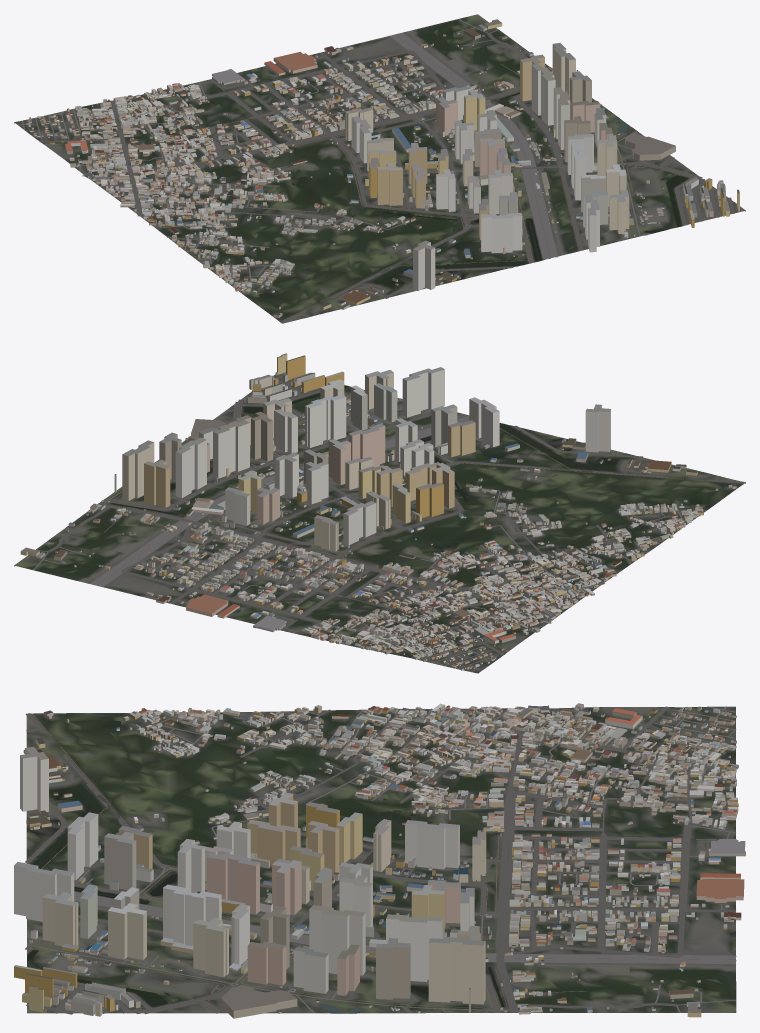
3 views of the same model, one above another, from view 1: azimuth 30°, elevation 25°; view 2: azimuth 150°, elevation 25°; view 3: azimuth 270°, elevation 25° (orthographic). The views are drawn at different scales.
Parts seen in each view (by area): view 1: ground, buildings, roads, water; view 2: buildings, ground, roads, water; view 3: buildings, ground, roads, water.
Boxes of the visible parts, <box> form: ground: <box>14,14,745,322</box>; buildings: <box>25,19,739,317</box>; roads: <box>17,18,735,323</box>; water: <box>259,92,687,298</box>; buildings: <box>20,353,736,670</box>; ground: <box>14,373,745,673</box>; roads: <box>33,375,745,671</box>; water: <box>111,385,703,551</box>; buildings: <box>14,703,745,1018</box>; ground: <box>26,706,736,1013</box>; roads: <box>25,706,736,1014</box>; water: <box>27,721,504,1012</box>.
Bounding box in the file's own units: 1441 × 133 × 1445.
